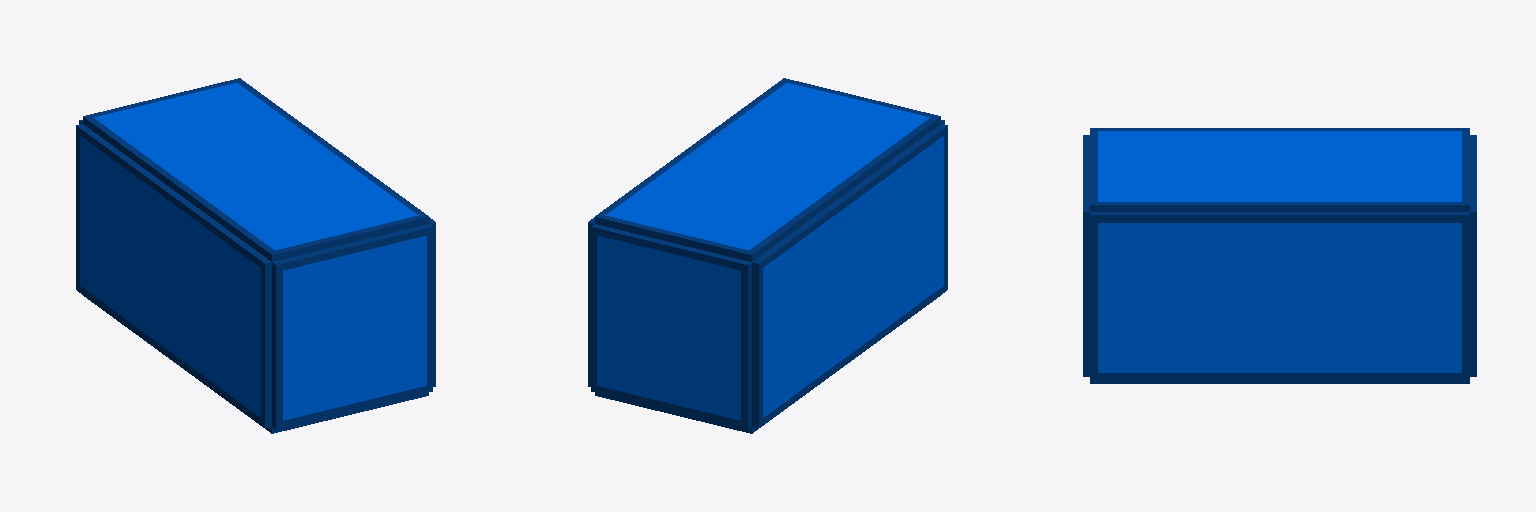
The picture shows the model from 3 angles: view 1: azimuth 30°, elevation 25°; view 2: azimuth 150°, elevation 25°; view 3: azimuth 270°, elevation 25°; orthographic projection.
Visible parts, largest first — view 1: Matrix; view 2: Matrix; view 3: Matrix.
Part boxes in pixels (left/top/right/bottom): Matrix: left=76, top=78, right=435, bottom=433; Matrix: left=588, top=78, right=947, bottom=433; Matrix: left=1083, top=128, right=1476, bottom=383.
Bounding box in the file's own units: 25 × 25 × 50.
Materials: 1 (1 with a texture image).